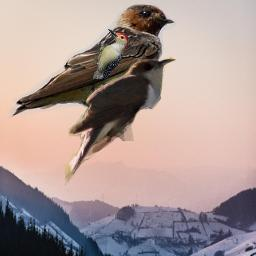Cuckoo: (65, 56, 176, 188)
Swallow: (7, 1, 176, 123)
Woodpecker: (93, 29, 128, 79)
